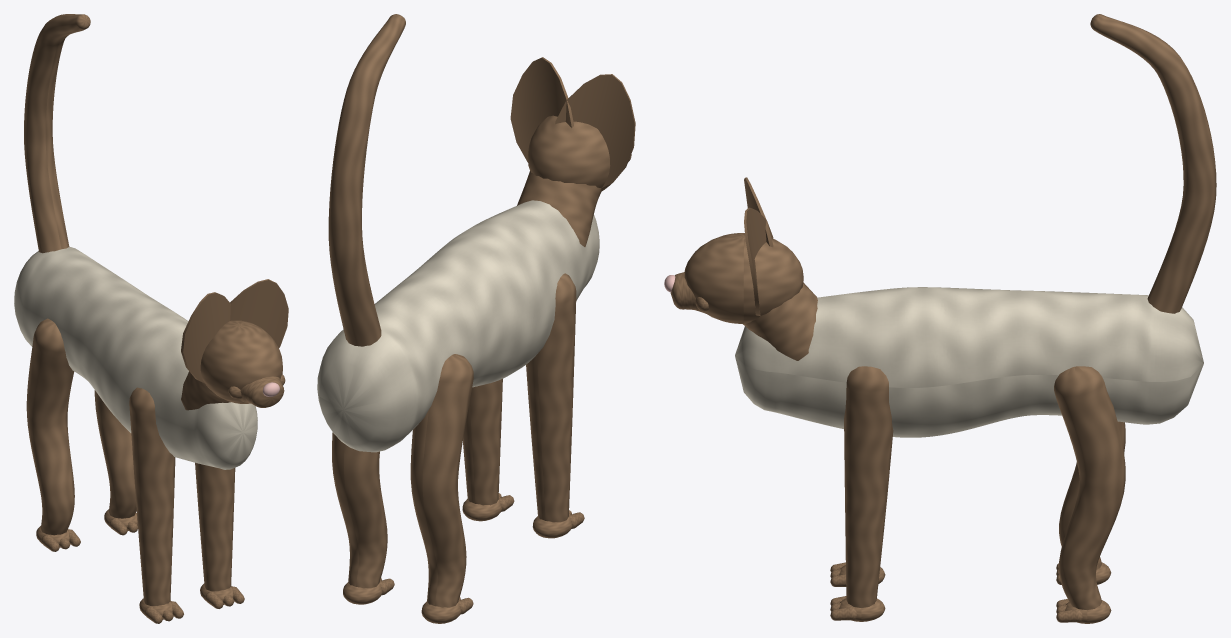
The model's file is pets-and-companions-hd-siamese-947d1cad__28148.glb.
The picture shows the model from 3 angles, left to right: view 1: azimuth 30°, elevation 25°; view 2: azimuth 150°, elevation 25°; view 3: azimuth 270°, elevation 25°; orthographic projection. The views are drawn at different scales.
Parts seen in each view (by area): view 1: siamese; view 2: siamese; view 3: siamese.
Boxes of the visible parts, left/top/right/bottom form: siamese: left=14, top=14, right=288, bottom=623; siamese: left=317, top=14, right=635, bottom=623; siamese: left=664, top=14, right=1216, bottom=623.
Size of the model in its own units: 0.1191 by 0.5388 by 0.4588.
Materials: 5 (2 with a texture image).
